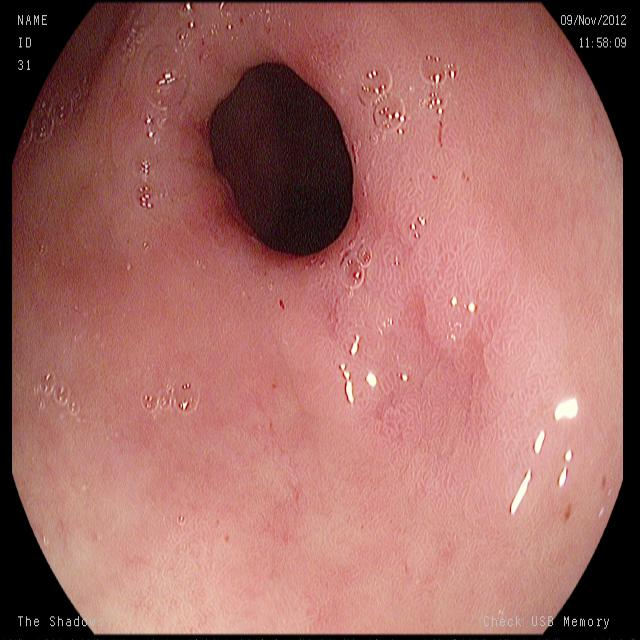normal-pylorus: (99, 1, 580, 557)
